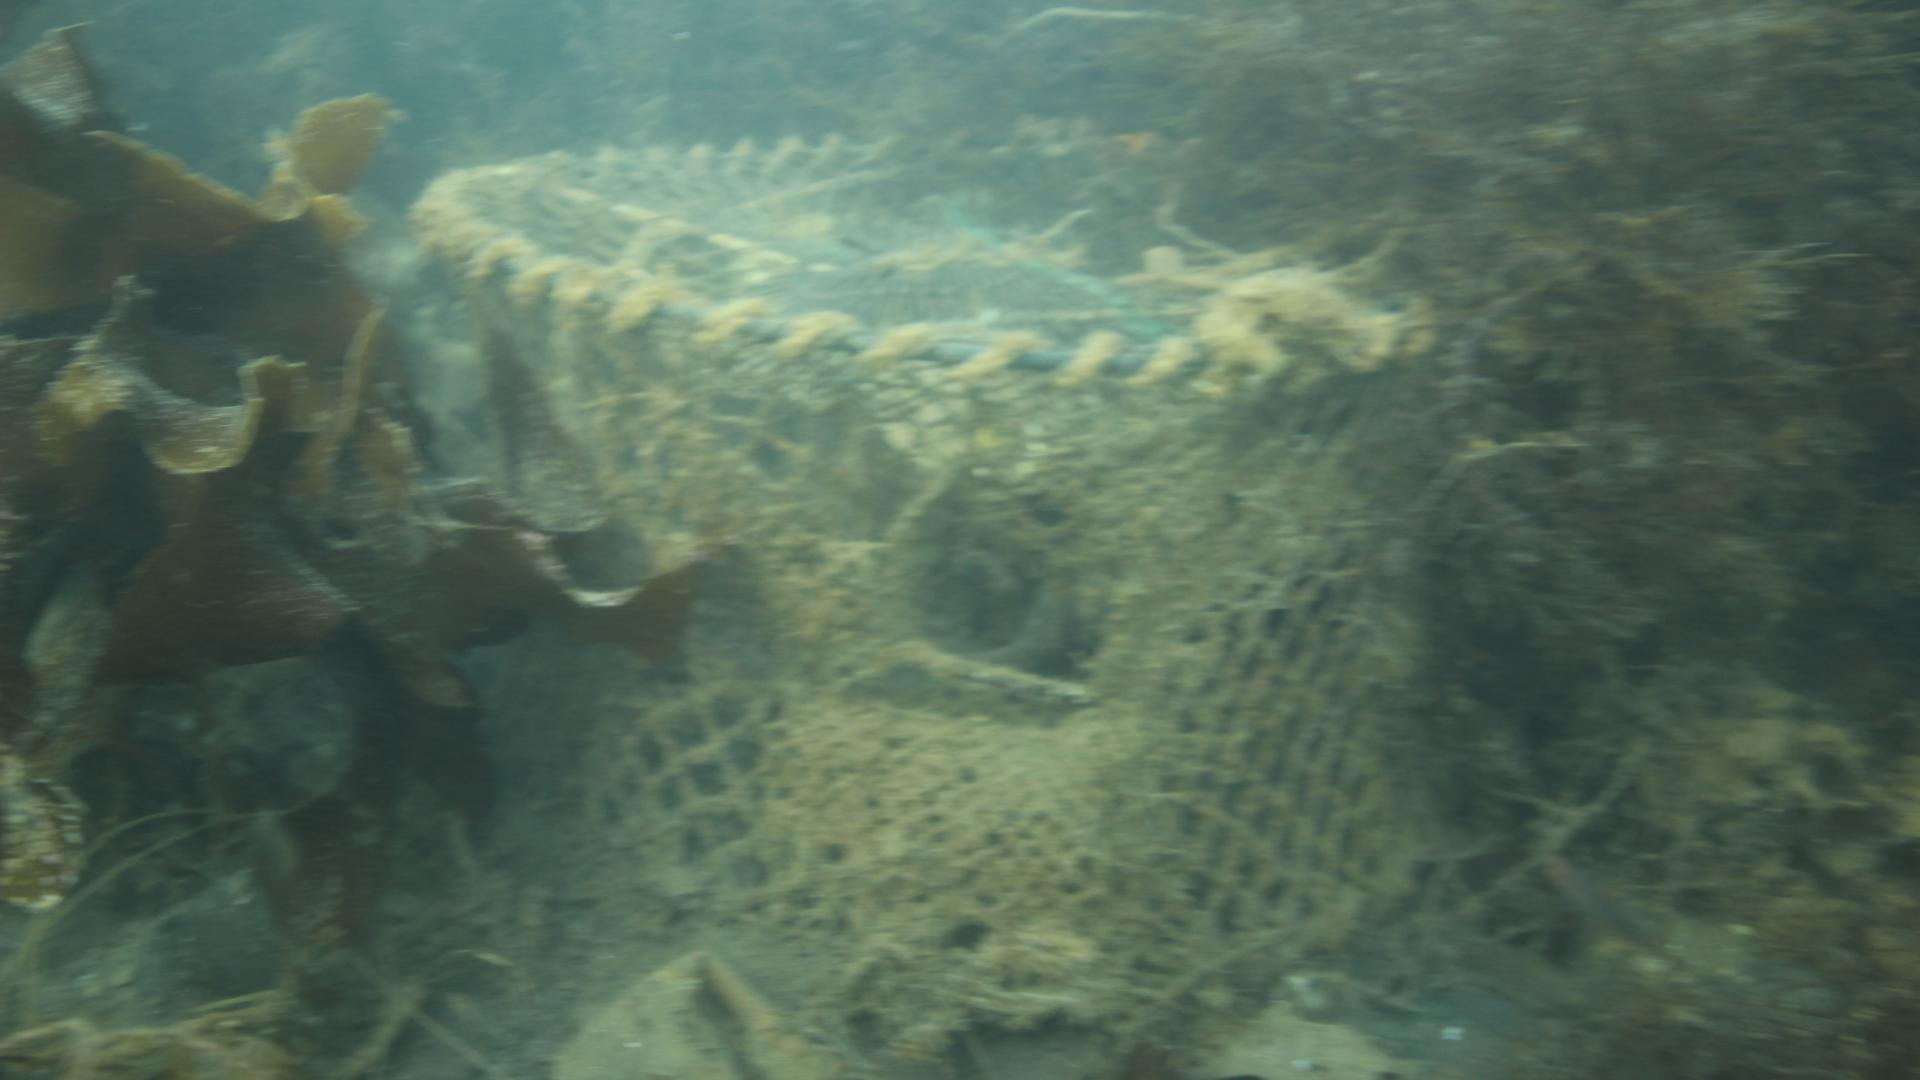circular fish trap: (402, 129, 1445, 1033)
